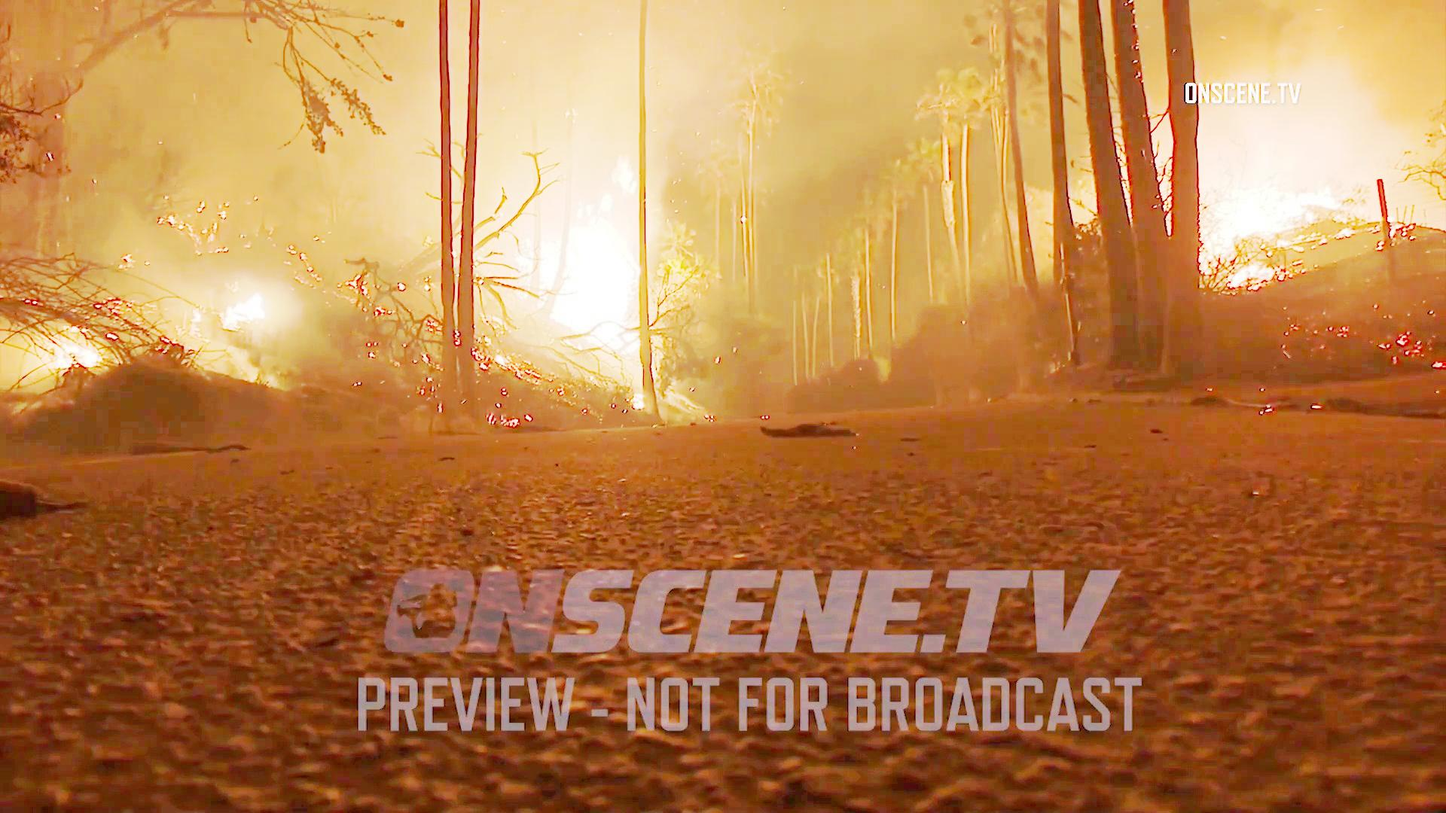fire: (530, 145, 653, 306), (1202, 153, 1347, 288)
